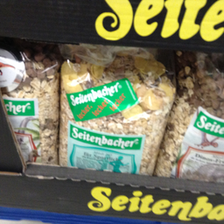cereal: (60, 50, 177, 175), (155, 69, 224, 179), (1, 54, 60, 163)
